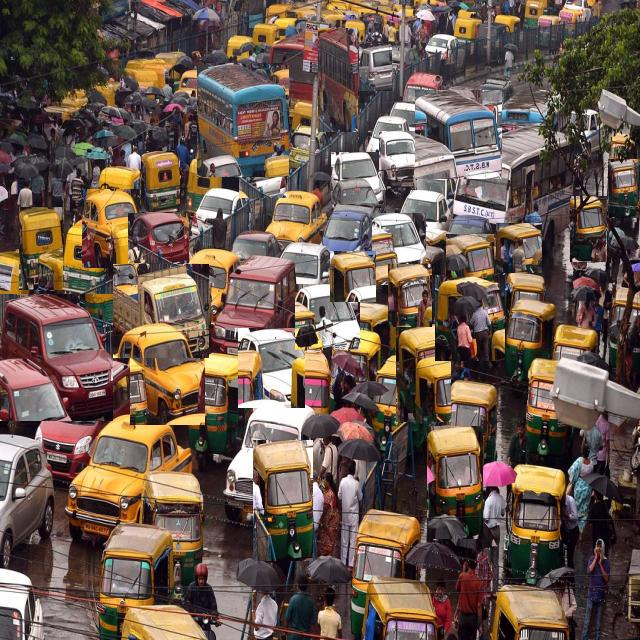autorickshaw: (350, 508, 421, 638), (98, 523, 174, 640), (188, 353, 252, 468), (504, 465, 566, 583), (142, 473, 202, 592), (254, 441, 313, 561), (428, 426, 483, 539), (372, 355, 434, 451), (435, 276, 505, 361), (396, 324, 451, 422), (525, 358, 572, 462), (505, 300, 556, 381), (448, 383, 498, 460), (60, 219, 111, 293), (20, 208, 63, 290), (388, 265, 432, 327), (571, 197, 607, 262), (141, 152, 180, 212), (330, 252, 376, 302), (496, 223, 542, 273), (185, 156, 222, 216), (446, 235, 494, 280), (609, 159, 639, 218)
bus: (454, 126, 572, 252), (198, 64, 289, 177), (415, 90, 502, 179), (319, 28, 358, 132)
car: (66, 415, 192, 538), (0, 295, 113, 421), (36, 358, 136, 479), (224, 400, 314, 518), (211, 255, 298, 354), (130, 322, 205, 425), (0, 435, 55, 566), (239, 328, 305, 408), (82, 190, 139, 268), (295, 285, 360, 350), (372, 214, 426, 285), (186, 249, 239, 318), (282, 242, 331, 309), (266, 191, 328, 243), (129, 214, 189, 263), (331, 152, 384, 204), (191, 188, 246, 234), (322, 210, 374, 257), (380, 132, 417, 190), (240, 155, 287, 198), (359, 45, 392, 91)
truck: (114, 265, 209, 358)
